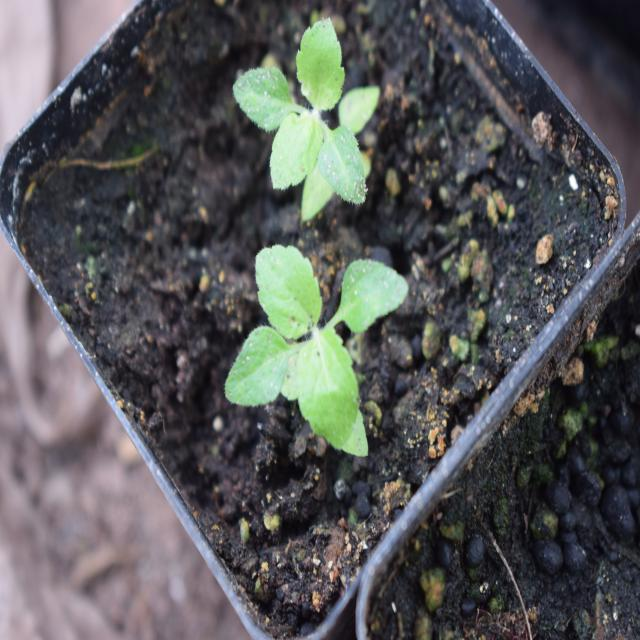billygoat_weed: (228, 243, 432, 458), (233, 14, 374, 236)
